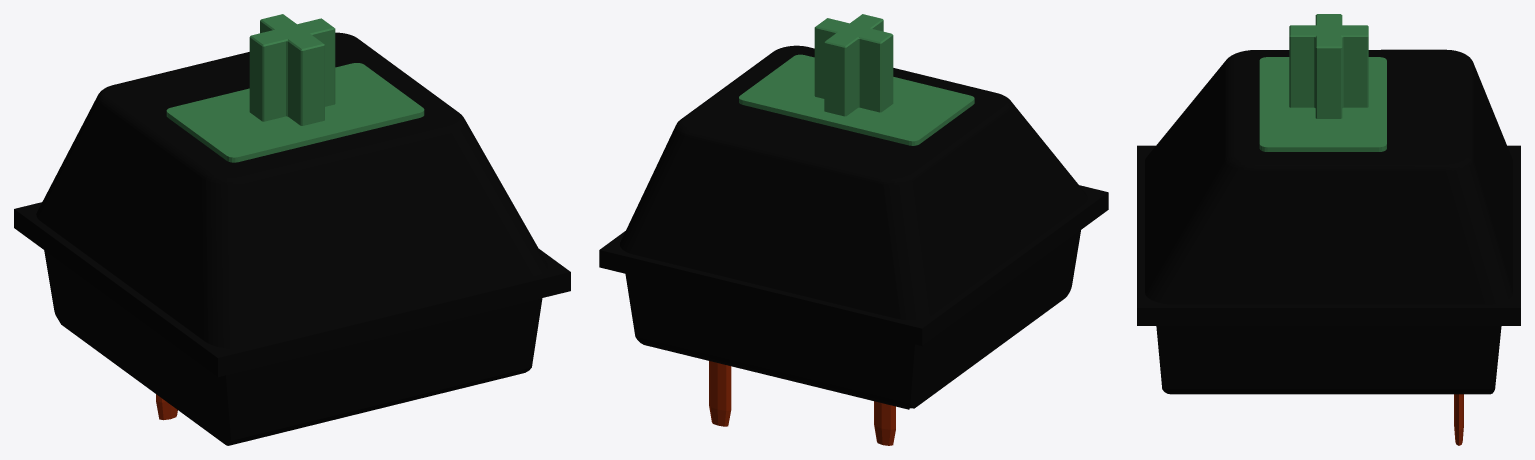
File: mxgreen.glb
3 views of the same model, side by side, from view 1: azimuth 30°, elevation 25°; view 2: azimuth 150°, elevation 25°; view 3: azimuth 270°, elevation 25° (orthographic). The views are drawn at different scales.
Visible parts, largest first — view 1: Switch; view 2: Switch; view 3: Switch.
Part boxes in pixels (<box>): Switch: <box>14,14,570,445</box>; Switch: <box>599,14,1108,445</box>; Switch: <box>1137,14,1520,445</box>.
Size of the model in its own units: 0.0145 by 0.0157 by 0.0145.
